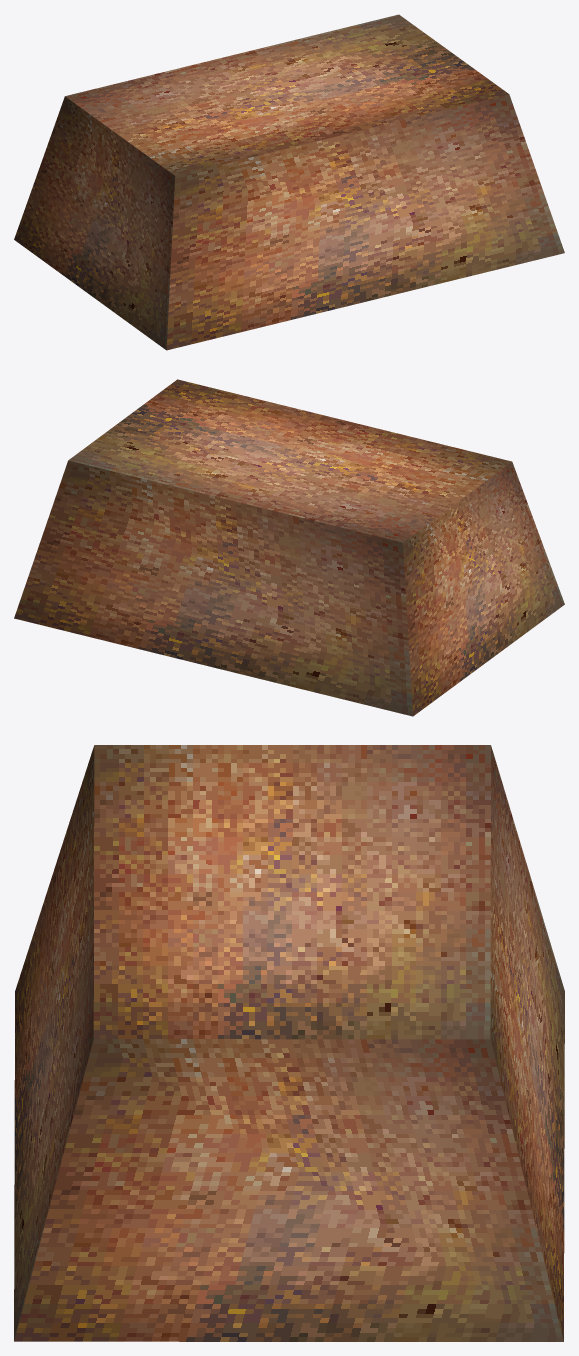
File: iron_1.glb
3 renders of one model, top to bottom at view 1: azimuth 30°, elevation 25°; view 2: azimuth 150°, elevation 25°; view 3: azimuth 270°, elevation 25°, orthographic. The views are drawn at different scales.
Visible parts, largest first — view 1: iron01.001; view 2: iron01.001; view 3: iron01.001.
Boxes of the visible parts, box(x1,y1,x2,y2) form: iron01.001: box(14, 14, 564, 350); iron01.001: box(14, 379, 564, 716); iron01.001: box(14, 745, 564, 1341).
Size of the model in its own units: 63.07 by 22.94 by 41.74.
1 material, 1 textured.
